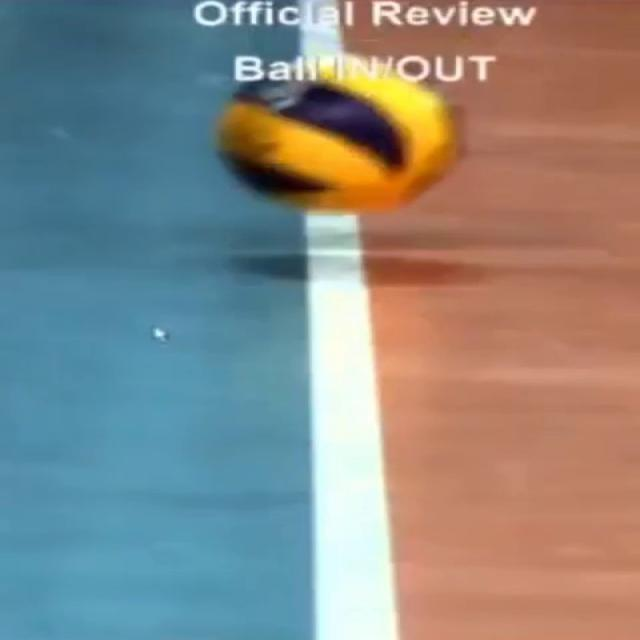Volleyball: (220, 56, 460, 211)
